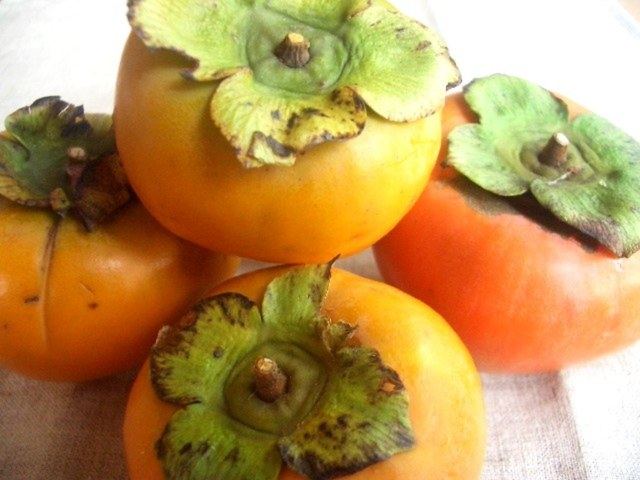tomato: (114, 0, 460, 263), (126, 251, 485, 479), (370, 73, 639, 373), (0, 94, 242, 379)
